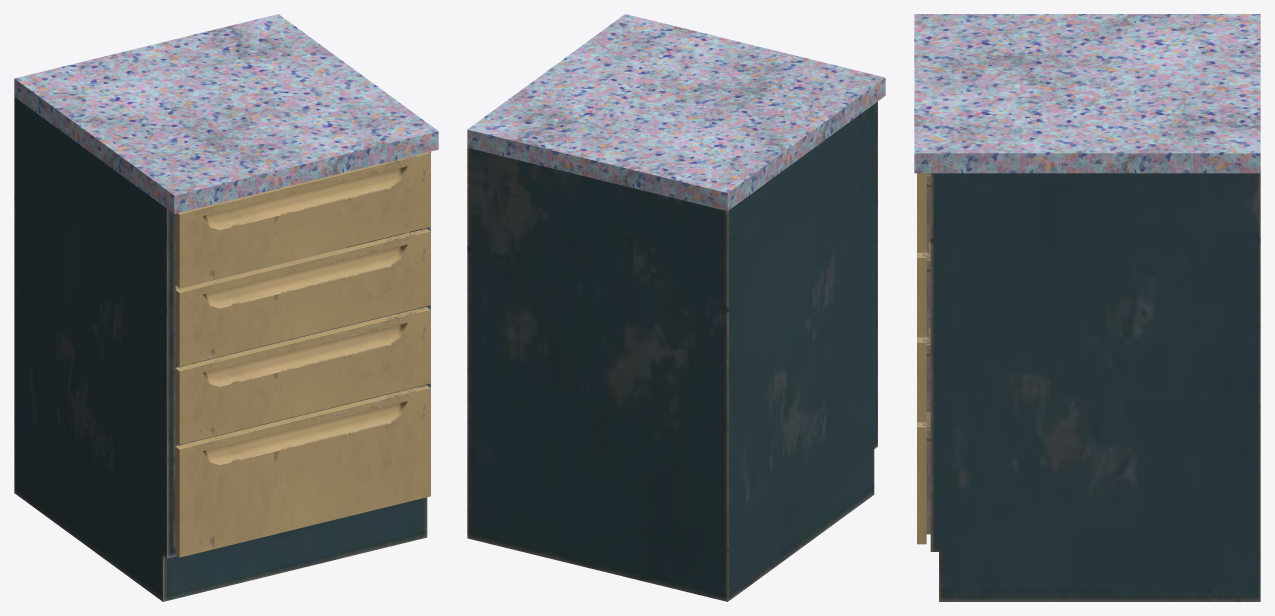
File: kitchen-cabinet-50s.glb
3 renders of one model, left to right at view 1: azimuth 30°, elevation 25°; view 2: azimuth 150°, elevation 25°; view 3: azimuth 270°, elevation 25°, orthographic. The views are drawn at different scales.
Visible parts, largest first — view 1: cabinet3, countertop1, Drawer4, Drawer2, Drawer3, Drawer004; view 2: cabinet3, countertop1; view 3: cabinet3, countertop1, Drawer4, Drawer2, Drawer3, Drawer004.
Boxes of the visible parts, bbox=[...] form: cabinet3: bbox=[14, 97, 430, 601]; countertop1: bbox=[14, 14, 438, 213]; Drawer4: bbox=[175, 385, 430, 557]; Drawer2: bbox=[175, 228, 430, 366]; Drawer3: bbox=[175, 306, 430, 444]; Drawer004: bbox=[175, 152, 430, 287]; cabinet3: bbox=[467, 101, 877, 601]; countertop1: bbox=[467, 14, 885, 211]; cabinet3: bbox=[930, 173, 1260, 601]; countertop1: bbox=[914, 14, 1260, 173]; Drawer4: bbox=[917, 412, 930, 544]; Drawer2: bbox=[917, 242, 930, 337]; Drawer3: bbox=[917, 327, 930, 422]; Drawer004: bbox=[917, 173, 930, 252].
Bounding box in the file's own units: 0.6 × 0.9 × 0.63.
3 materials, 3 textured.
